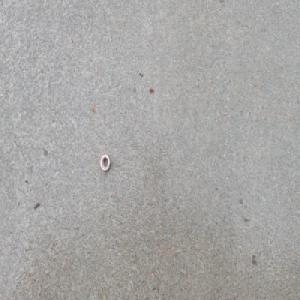Nut: (99, 153, 111, 171)
